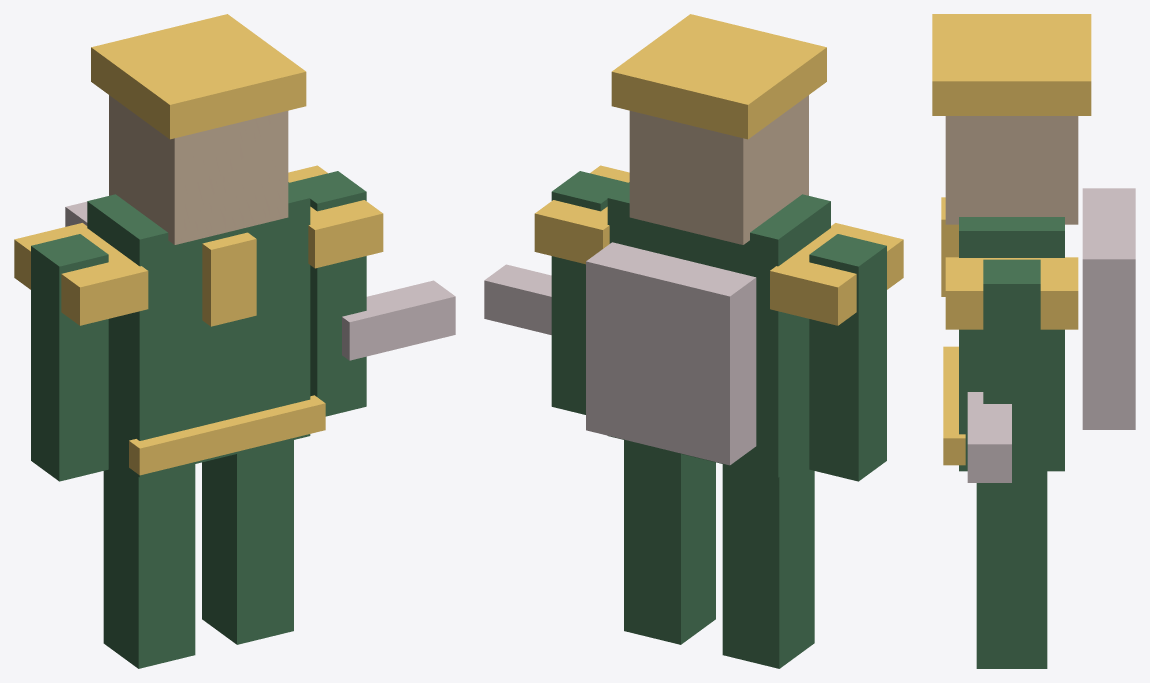
The model's file is 20_astra_trenchmark_keeper_under.glb.
The picture shows the model from 3 angles, left to right: view 1: azimuth 30°, elevation 25°; view 2: azimuth 150°, elevation 25°; view 3: azimuth 270°, elevation 25°; orthographic projection.
Visible parts, largest first — view 1: Astra Trenchmark, Keeper under; view 2: Astra Trenchmark, Keeper under; view 3: Astra Trenchmark, Keeper under.
Boxes of the visible parts, box(x1,y1,x2,y2) form: Astra Trenchmark, Keeper under: box(14, 14, 455, 668); Astra Trenchmark, Keeper under: box(484, 14, 903, 668); Astra Trenchmark, Keeper under: box(932, 14, 1135, 668).
Bounding box in the file's own units: 1.11 × 1.58 × 0.4994.
